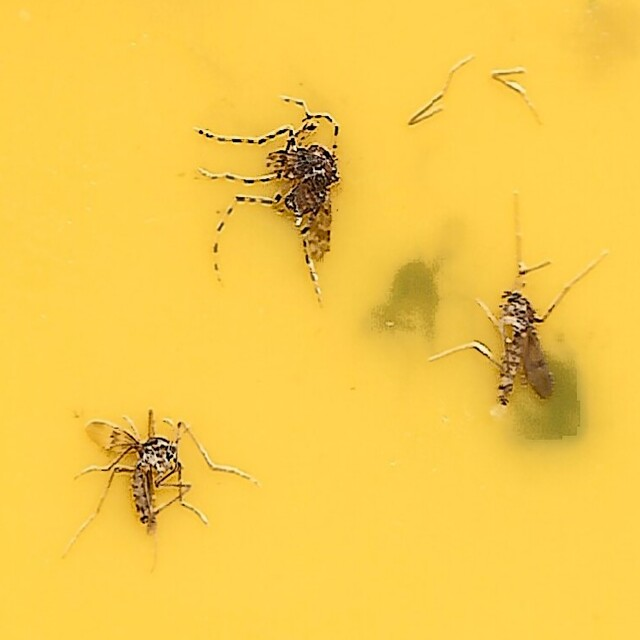Nematocera: (193, 100, 343, 313), (85, 414, 201, 540), (492, 283, 555, 416)
